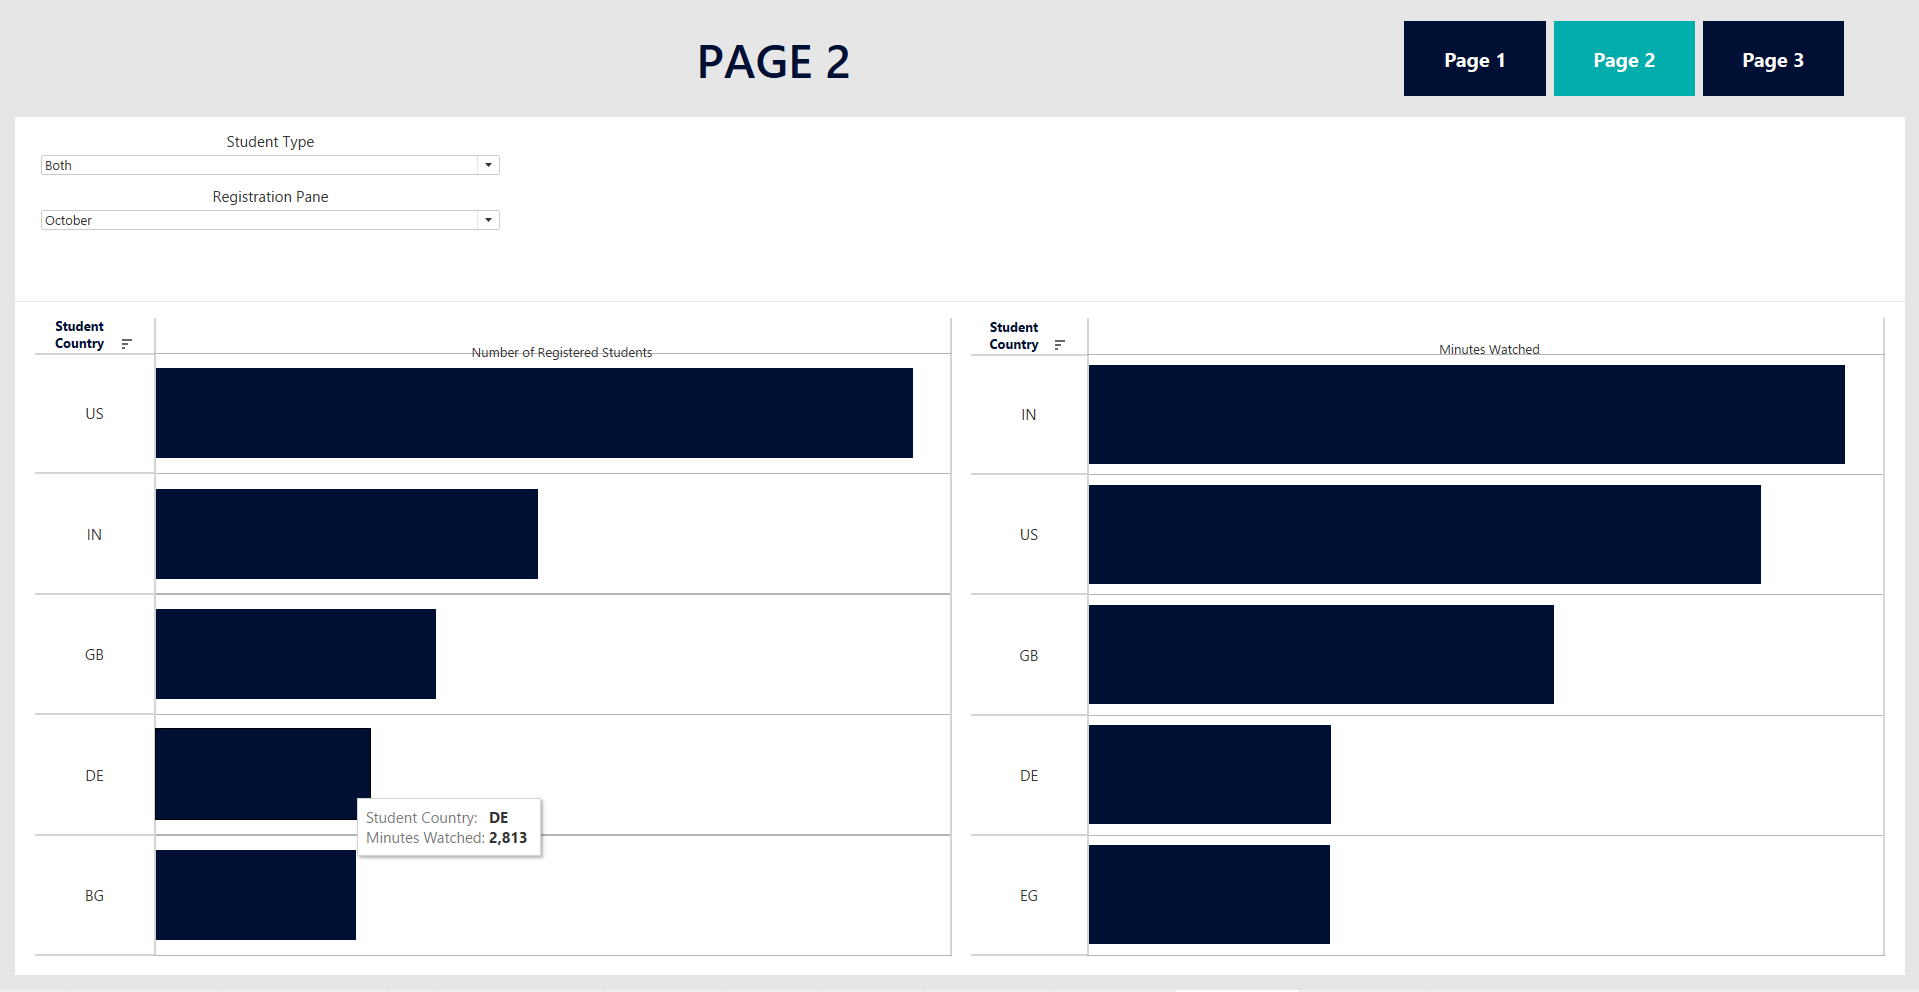

This screenshot's page, from the dashboard's own definition file:
{"tool":"tableau","page":{"name":"Dashboard 2","canvas":[1000,1000],"units":"permille","ordinal":1},"visuals":[{"type":"text","box":[343.1,15,120,93.6]},{"type":"dashboard-object","box":[729.2,20.1,78.1,83.6]},{"type":"dashboard-object","box":[807.3,20.1,77.6,83.6]},{"type":"dashboard-object","box":[884.9,20.1,77.6,83.6]},{"type":"parameter","param":"[Parameters].[Parameter 2]","box":[17.7,131.3,246.6,55.4]},{"type":"parameter","param":"[Parameters].[Parameter 1]","box":[17.7,186.7,246.6,55.4]},{"type":"worksheet","title":"Country to Student","mark":"Automatic","rows":["student_country"],"cols":["Calculation_851743298602545155"],"box":[7.8,306.9,493,678]},{"type":"worksheet","title":"country to Registered","mark":"Automatic","rows":["student_country"],"cols":["Calculation_377176487568969733"],"box":[500.8,306.9,491.4,678]},{"type":"text","box":[578.8,334.6,394.1,40]},{"type":"text","box":[94.2,338.3,397.1,37.5]}]}

Visuals, with their boxes on the dashboard's canvas, which has no fixed pixel size, in thousandths of its width and height (x1, y1, x2, y2). These are canvas units, not pixel positions in the 1919x992 screenshot, which may show the page scaled, cropped or inside an application window:
text: 343, 15, 463, 109
dashboard-object: 729, 20, 807, 104
dashboard-object: 807, 20, 885, 104
dashboard-object: 885, 20, 962, 104
parameter: 18, 131, 264, 187
parameter: 18, 187, 264, 242
"Country to Student" worksheet: 8, 307, 501, 985
"country to Registered" worksheet: 501, 307, 992, 985
text: 579, 335, 973, 375
text: 94, 338, 491, 376
